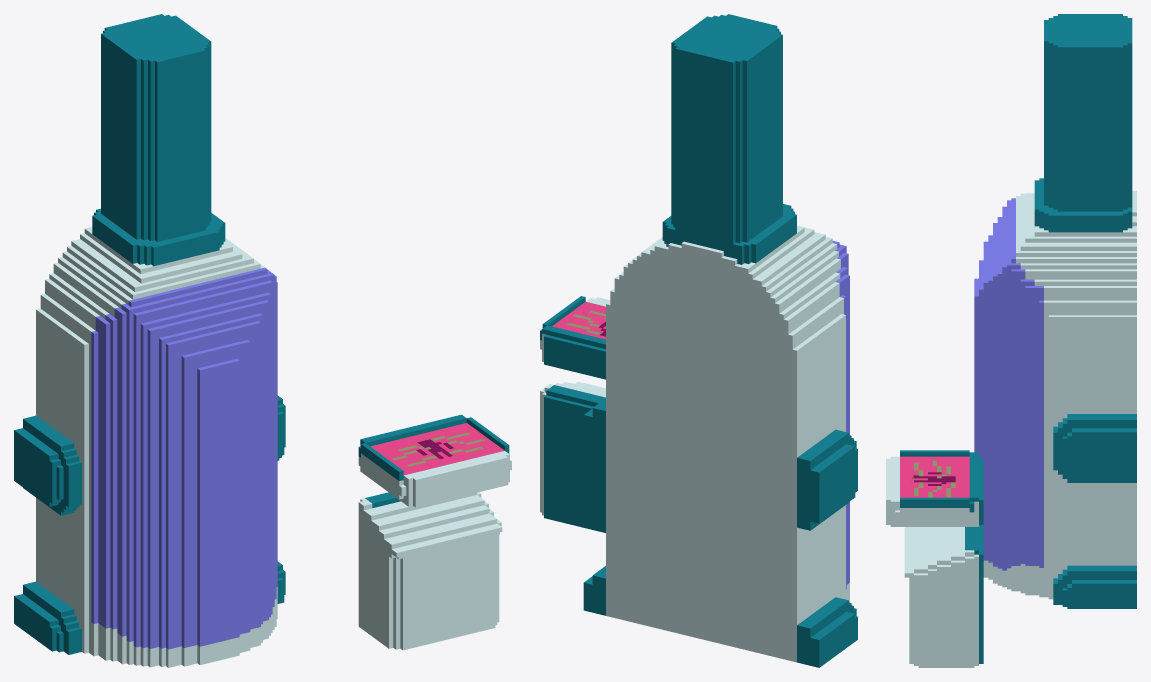
File: Sleep Device1-4.fbx
3 views of the same model, side by side, from view 1: azimuth 30°, elevation 25°; view 2: azimuth 150°, elevation 25°; view 3: azimuth 270°, elevation 25° (orthographic). The views are drawn at different scales.
Visible parts, largest first — view 1: Sleep Device1-4.001, Sleep Device1-4.000, Sleep Device1-4.002, Sleep Device1-4.003, Sleep Device1-4.004, Sleep Device1-4.005; view 2: Sleep Device1-4.000, Sleep Device1-4.002, Sleep Device1-4.003, Sleep Device1-4.004, Sleep Device1-4.001, Sleep Device1-4.005; view 3: Sleep Device1-4.000, Sleep Device1-4.001, Sleep Device1-4.002, Sleep Device1-4.003, Sleep Device1-4.004, Sleep Device1-4.005.
Boxes of the visible parts, x1=… form: Sleep Device1-4.001: x1=91, y1=267, x2=277, y2=649; Sleep Device1-4.000: x1=14, y1=208, x2=285, y2=667; Sleep Device1-4.002: x1=101, y1=14, x2=211, y2=241; Sleep Device1-4.003: x1=358, y1=492, x2=502, y2=650; Sleep Device1-4.004: x1=358, y1=414, x2=511, y2=507; Sleep Device1-4.005: x1=370, y1=423, x2=504, y2=475; Sleep Device1-4.000: x1=583, y1=204, x2=857, y2=667; Sleep Device1-4.002: x1=671, y1=14, x2=782, y2=243; Sleep Device1-4.003: x1=540, y1=382, x2=605, y2=532; Sleep Device1-4.004: x1=540, y1=296, x2=610, y2=379; Sleep Device1-4.001: x1=832, y1=240, x2=849, y2=589; Sleep Device1-4.005: x1=552, y1=302, x2=605, y2=339; Sleep Device1-4.000: x1=983, y1=178, x2=1136, y2=608; Sleep Device1-4.001: x1=974, y1=198, x2=1043, y2=570; Sleep Device1-4.002: x1=1044, y1=14, x2=1132, y2=211; Sleep Device1-4.003: x1=904, y1=525, x2=983, y2=667; Sleep Device1-4.004: x1=886, y1=450, x2=983, y2=526; Sleep Device1-4.005: x1=900, y1=456, x2=969, y2=497.
Bounding box in the file's own units: 8.3 × 12.5 × 5.4.
